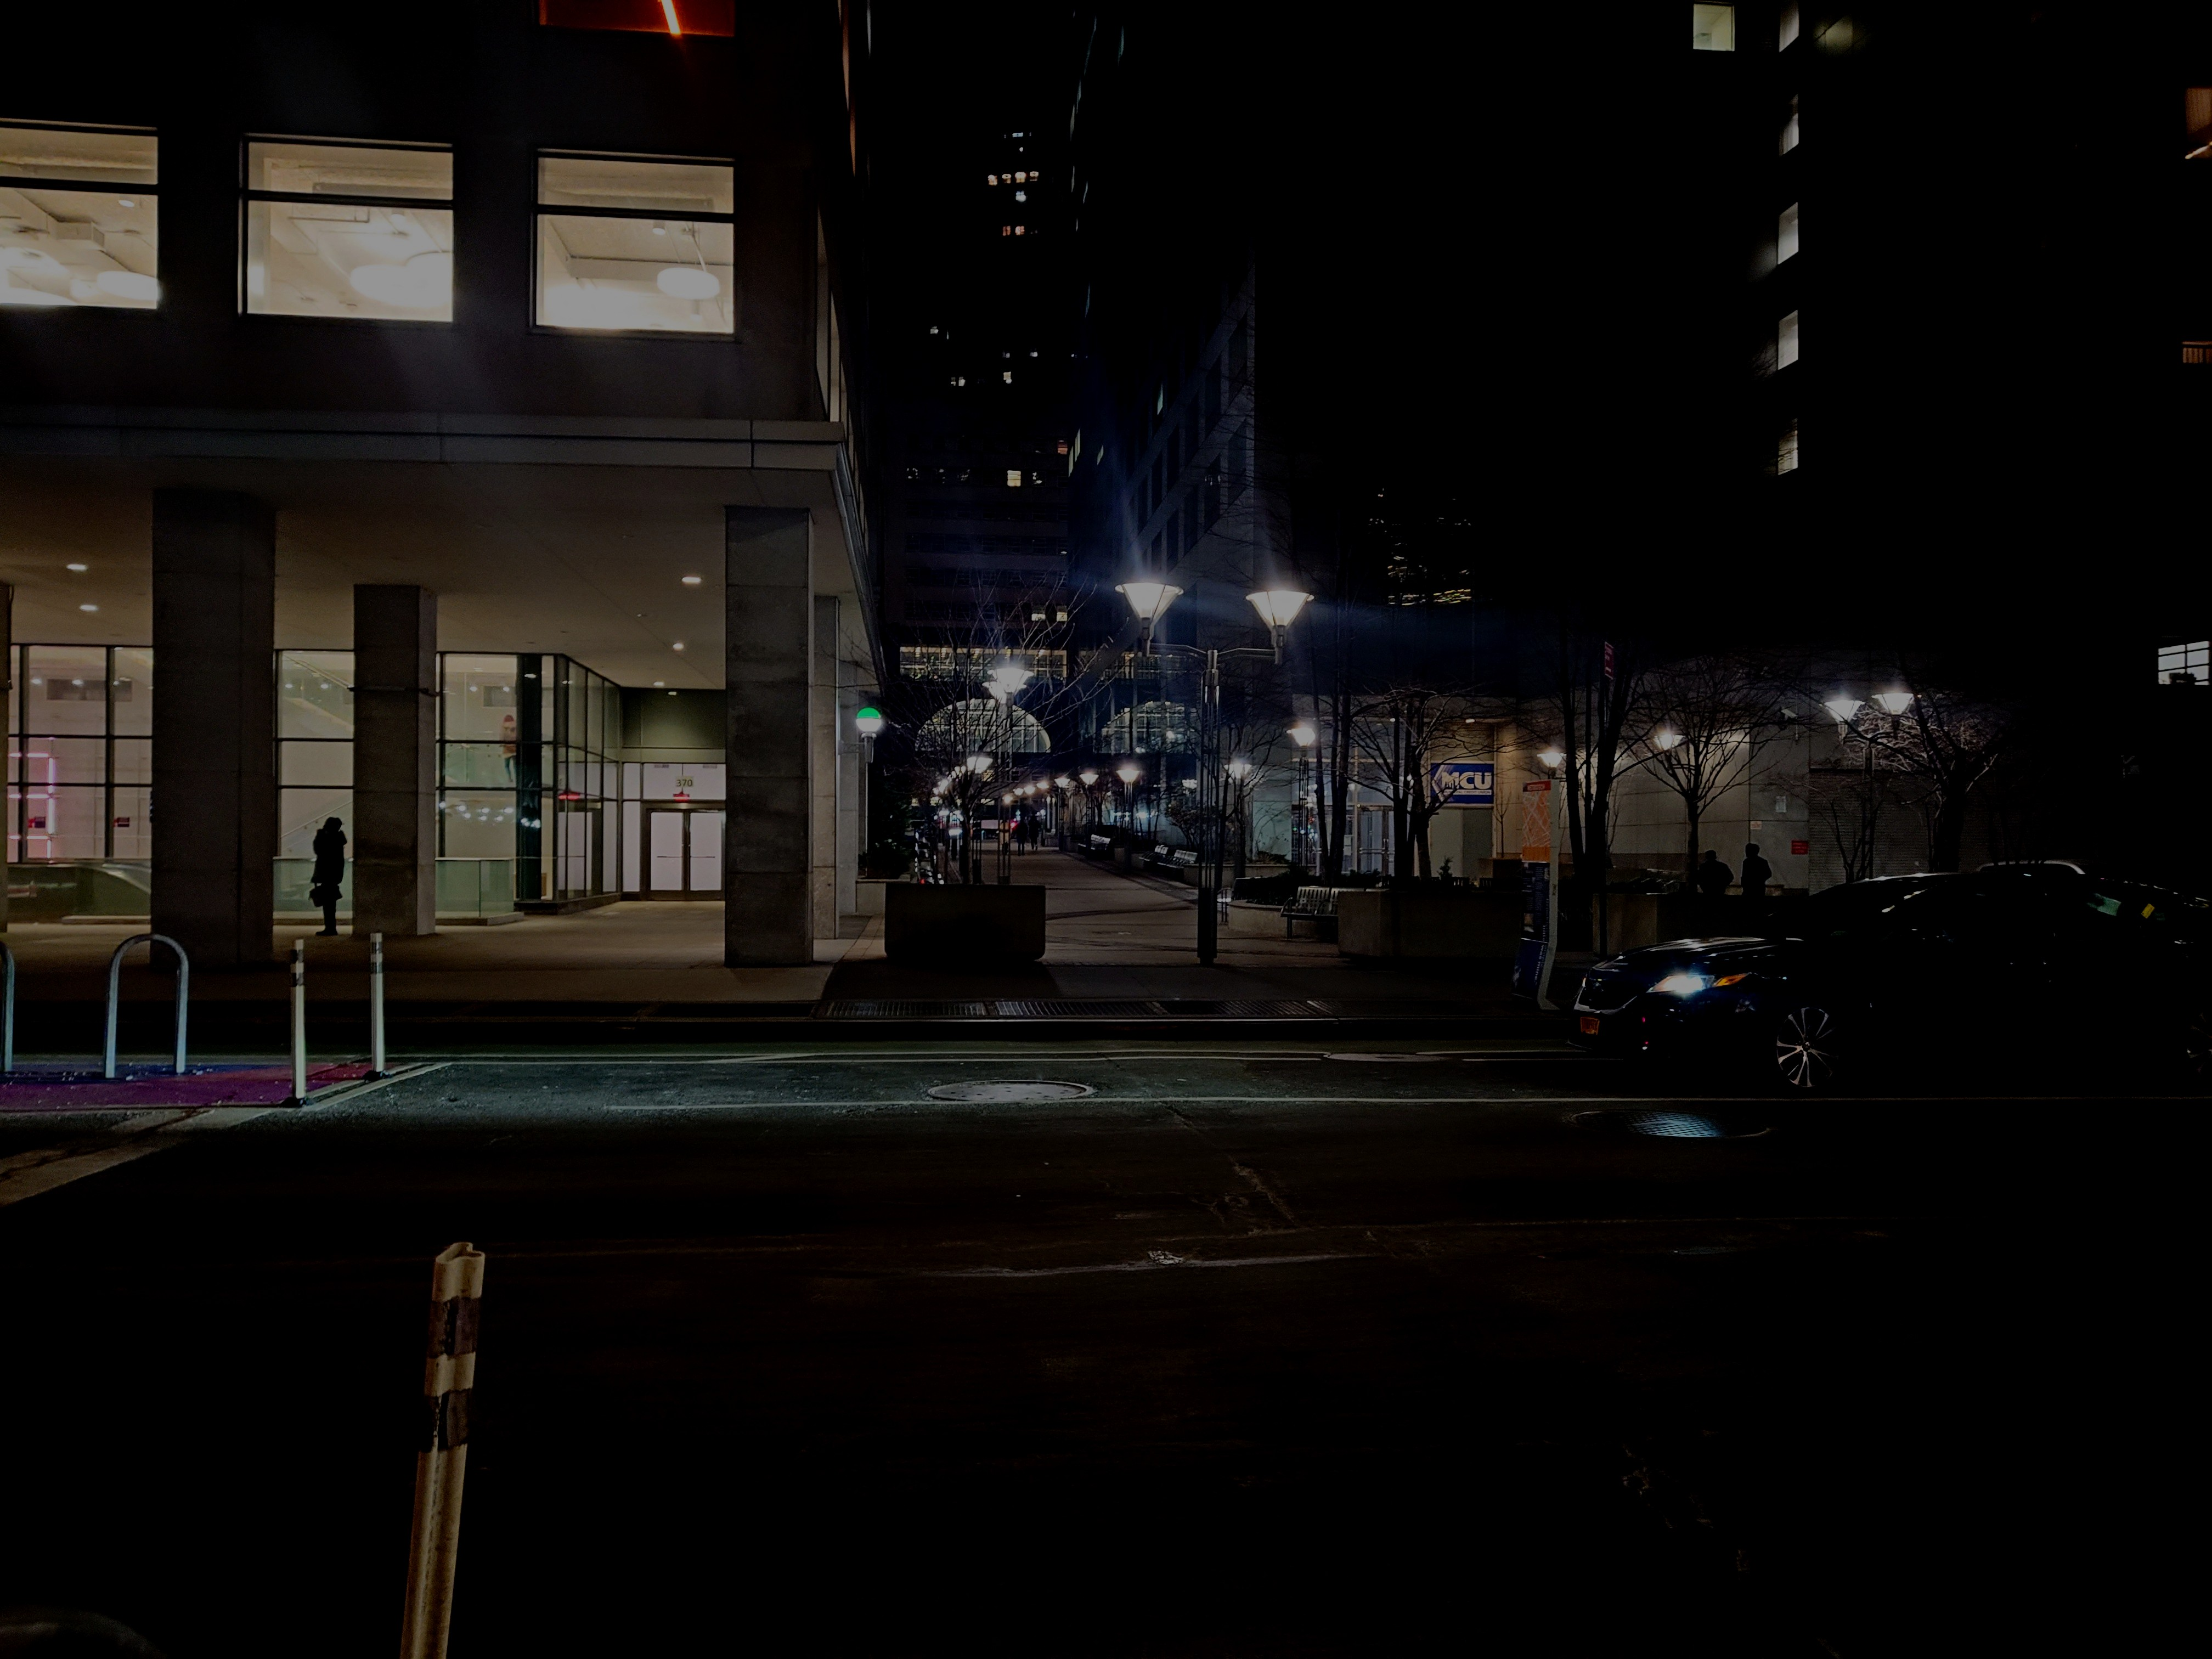car: (1573, 871, 2212, 1097)
person: (311, 817, 347, 933), (1740, 842, 1775, 896), (1700, 849, 1735, 898), (1011, 818, 1029, 857), (1026, 815, 1042, 853)
